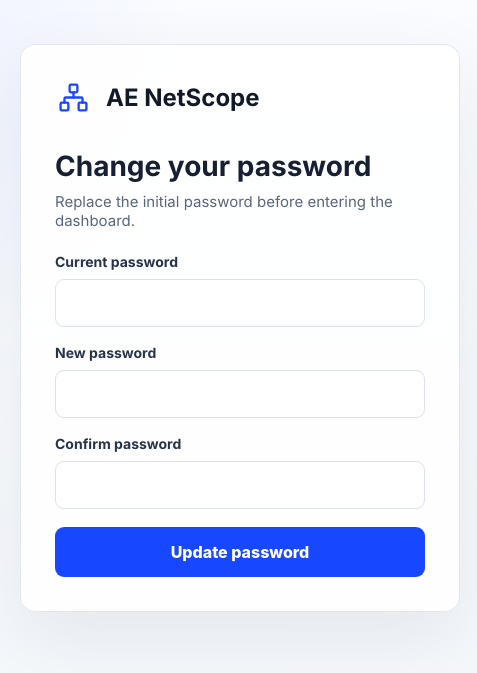
Scenario: ChangePasswordScreen › shows expired session errors from the API
Step 1. Type "old-secure-password" into the password field labelled "Current password" → [240, 303], box [55,279,425,327]
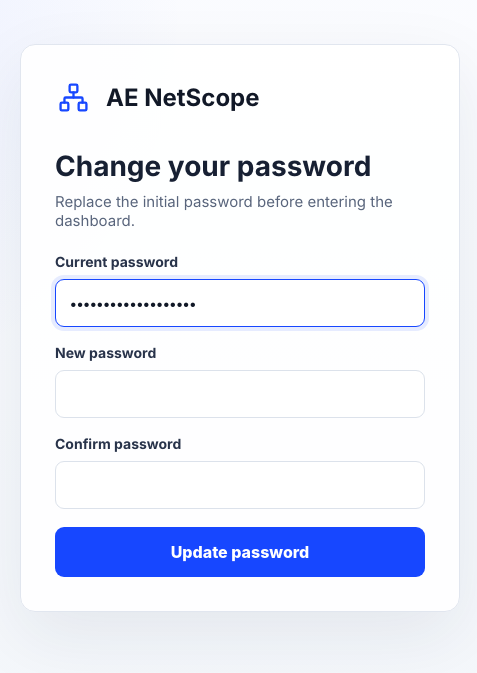
Step 2. Type "new-secure-password" into the password field labelled "New password" → [240, 394], box [55,370,425,418]
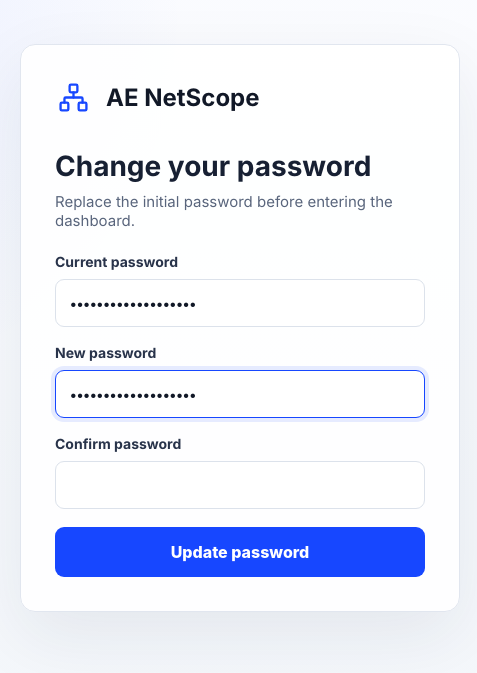
Step 3. Type "new-secure-password" into the password field labelled "Confirm password" → [240, 485], box [55,461,425,509]
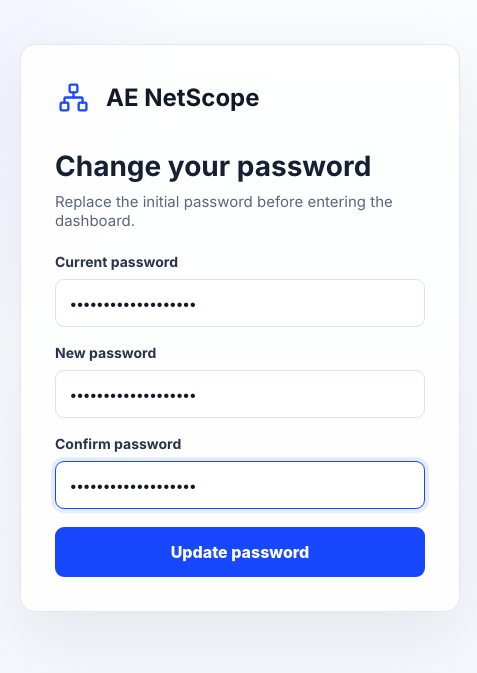
Step 4. Click the button "Update password" → [240, 552], box [55,527,425,577]
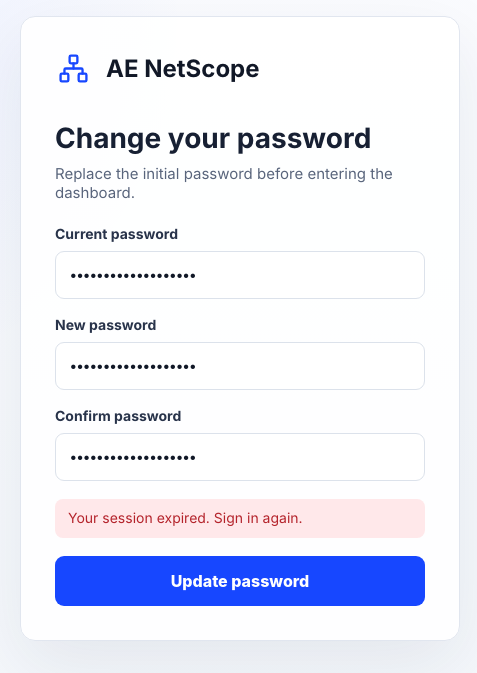
Expected: the text "Your session expired. Sign in again." is shown, [55,498,425,538]
